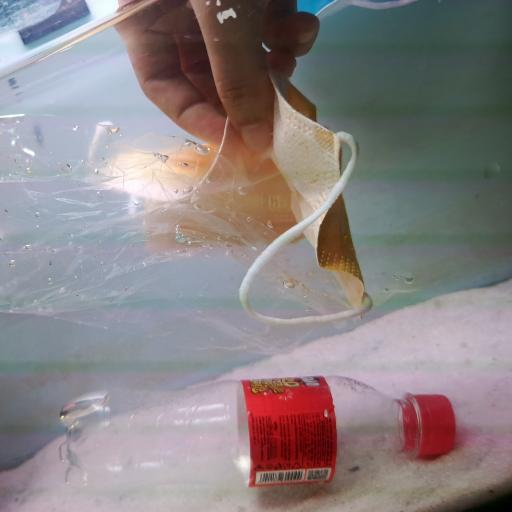bottle_cap: (402, 386, 460, 465)
mask: (84, 107, 377, 333)
plastic_bag: (5, 112, 462, 348)
plastic_bottle: (57, 373, 459, 494)
